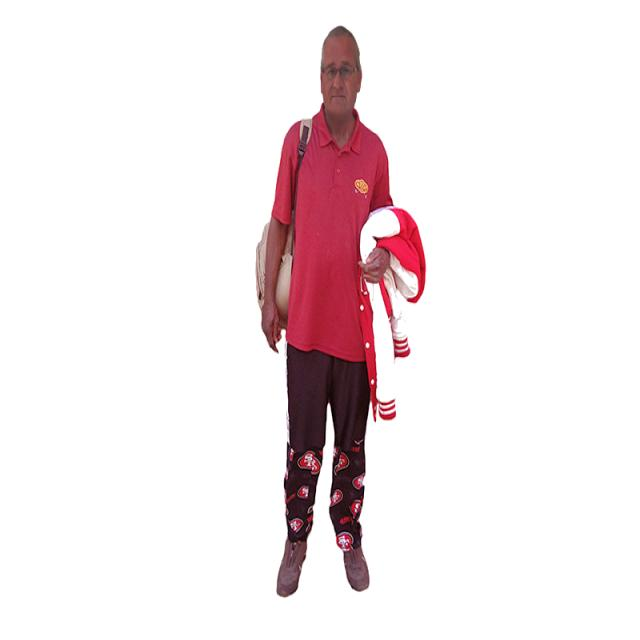jovem: (250, 14, 407, 598)
